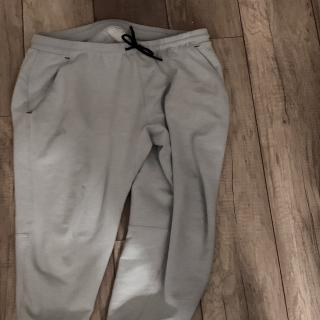White Sweatpants: (7, 20, 231, 320)
